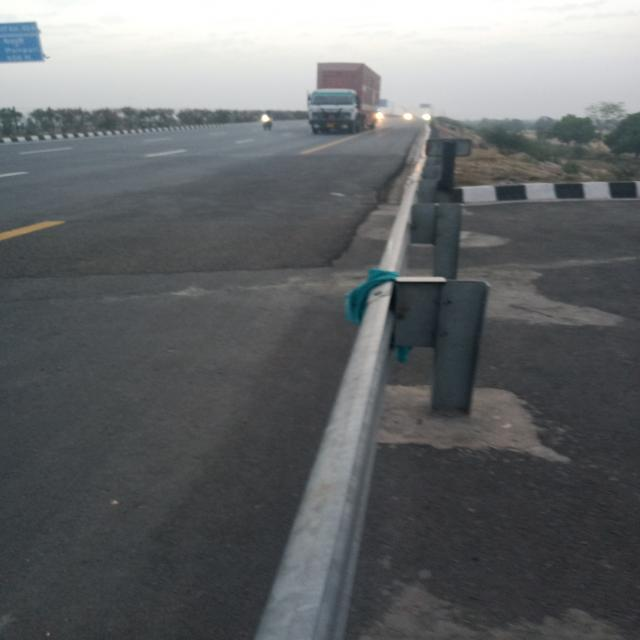truck: (303, 63, 381, 126)
